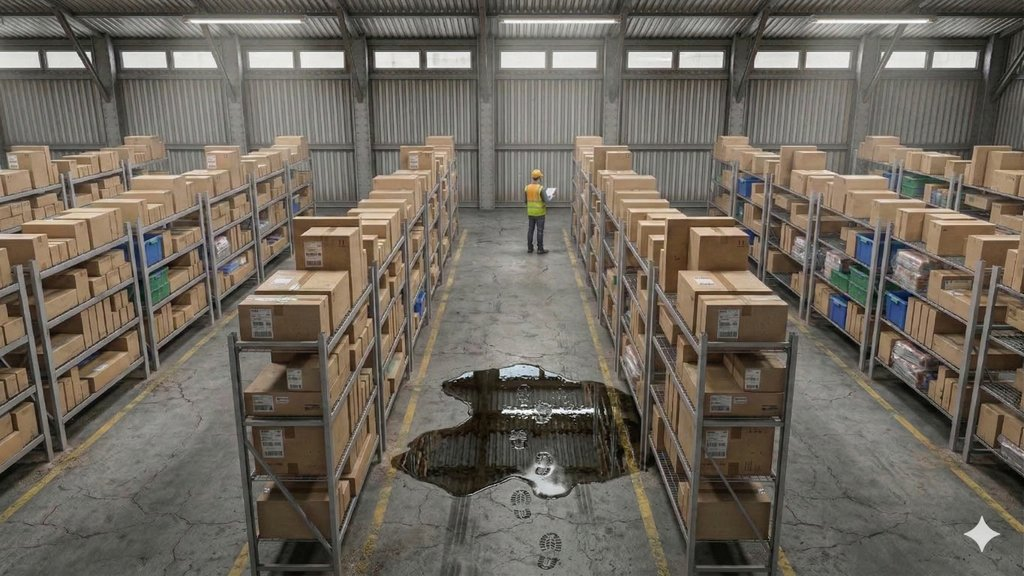person: (516, 157, 565, 291)
safety_helmet: (525, 168, 546, 179)
safety_vest: (525, 182, 547, 223)
spill: (398, 345, 643, 517)
